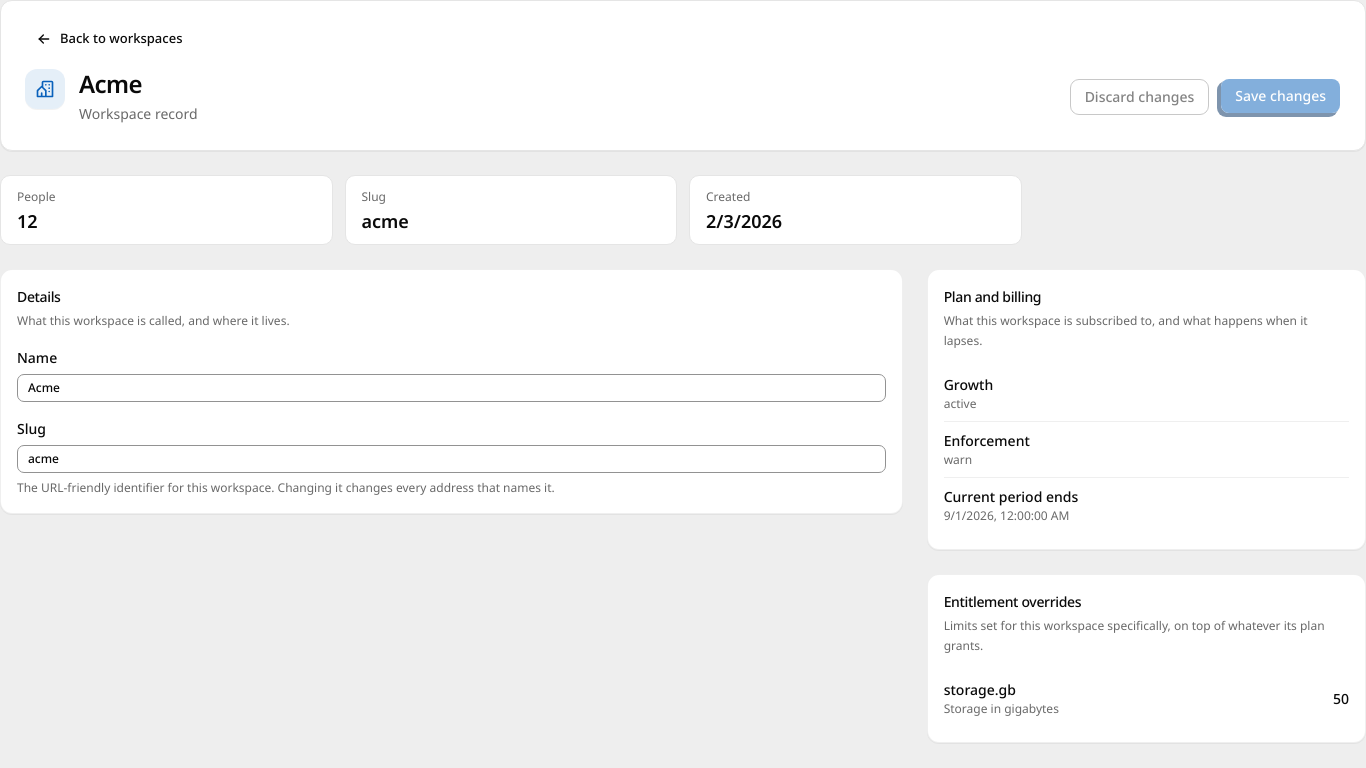
Scenario: /admin/tenants/[id] — the workspace record › refuses a slug the backend would accept but no URL should carry
Replace the text in the field with test id "tenant-record-slug" with "Invalid Slug!" at (451, 459), box x1=17 y1=445 x2=886 y2=473
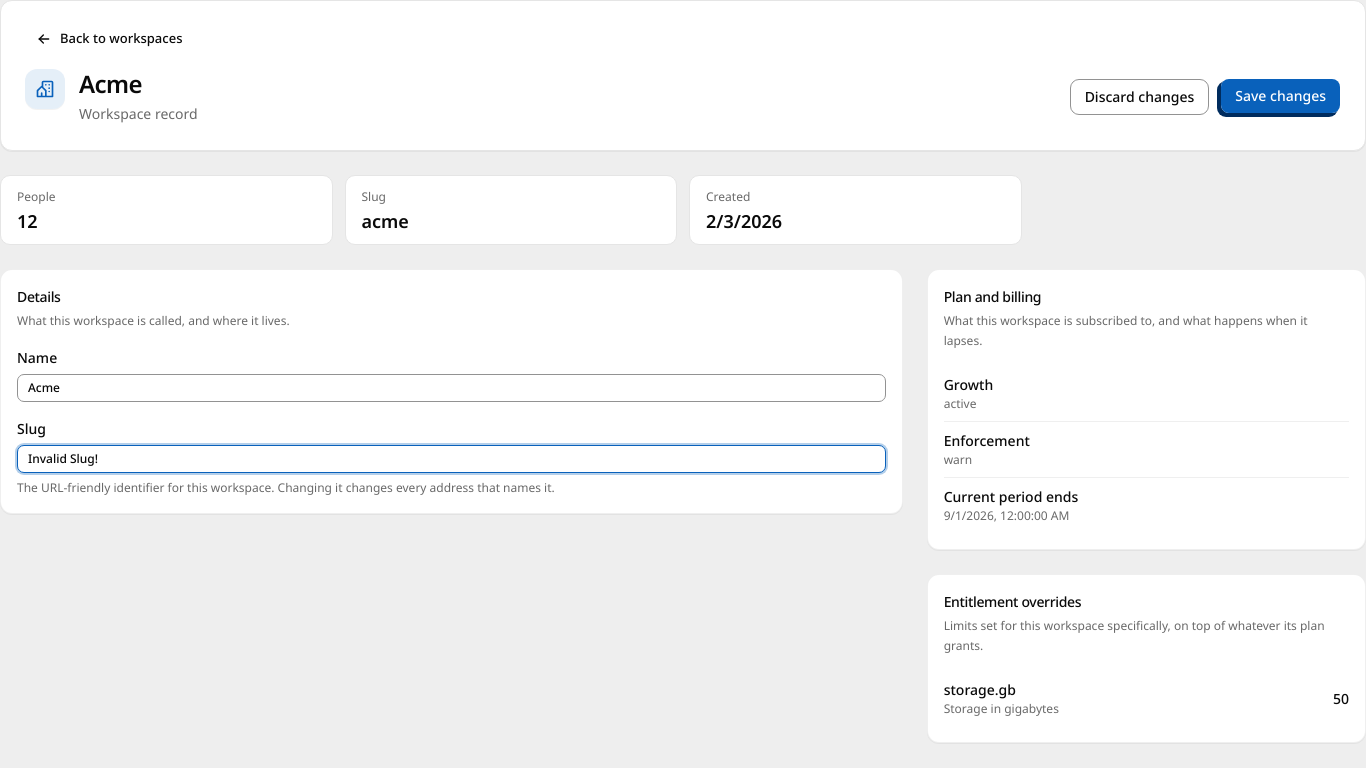
Click the button with test id "tenant-record-save" at (1281, 96), box x1=1220 y1=78 x2=1341 y2=114
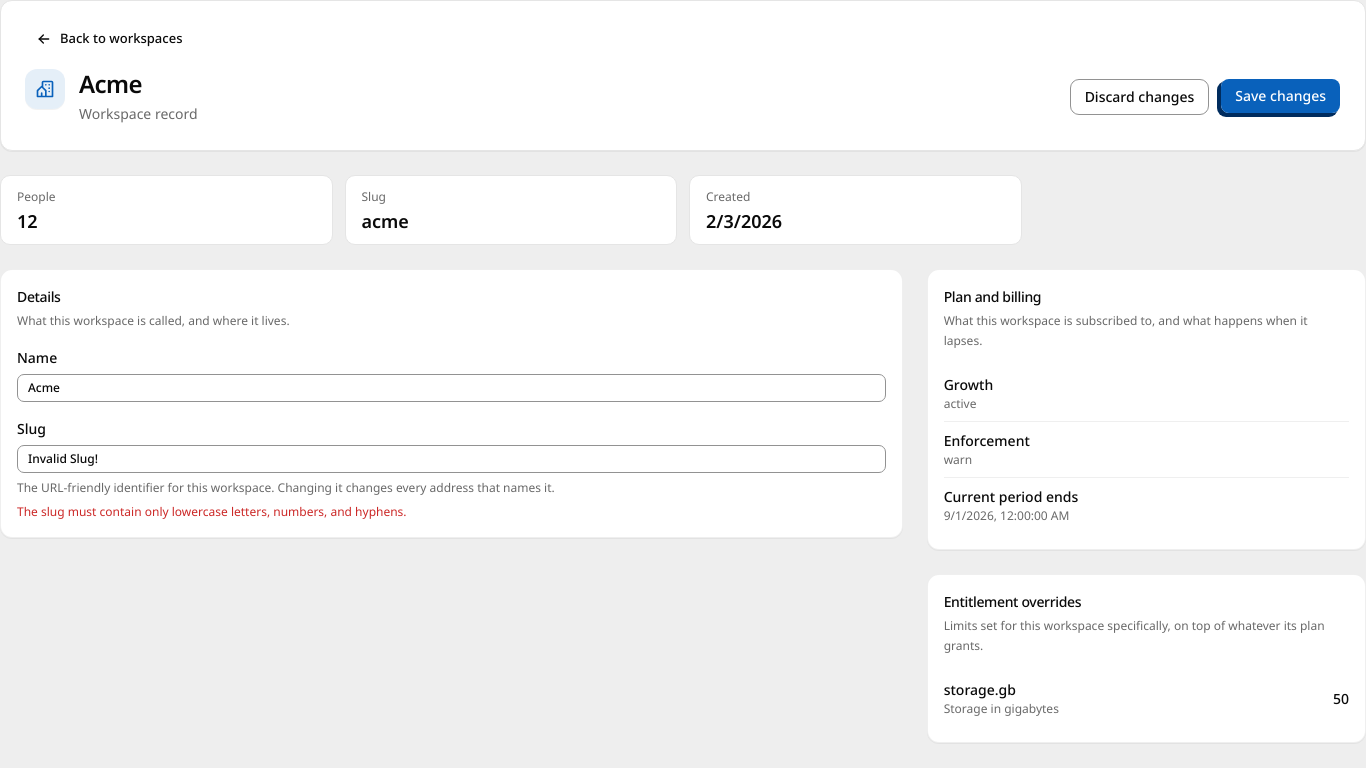
Expected: the text with test id "tenant-record-slug-error" is shown, x1=17 y1=503 x2=407 y2=520
